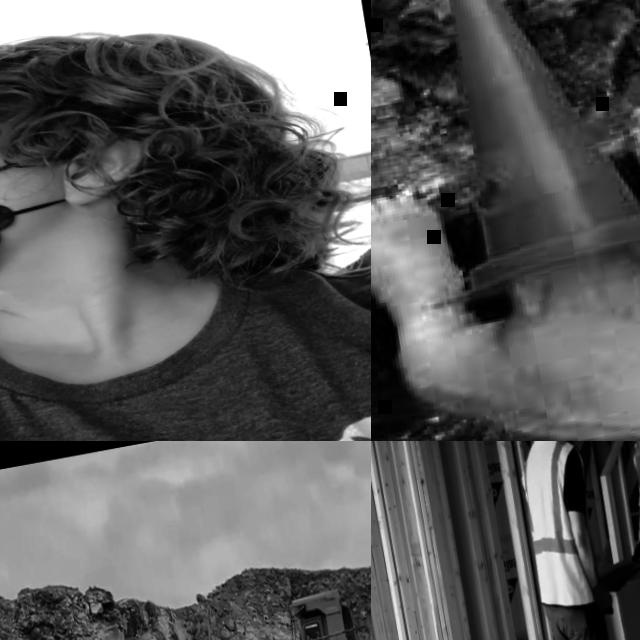Mask: (0, 138, 110, 324)
NO-Hardhat: (0, 0, 247, 151)
NO-Safety Vest: (0, 243, 371, 441)
Person: (0, 0, 371, 441), (483, 441, 640, 640), (316, 634, 326, 640)
Safety Cone: (375, 0, 640, 313)
Safety Vest: (512, 441, 608, 611)
machinery: (31, 533, 371, 640)
